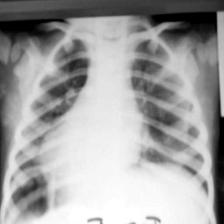tuberculosis: (0, 25, 212, 224)
